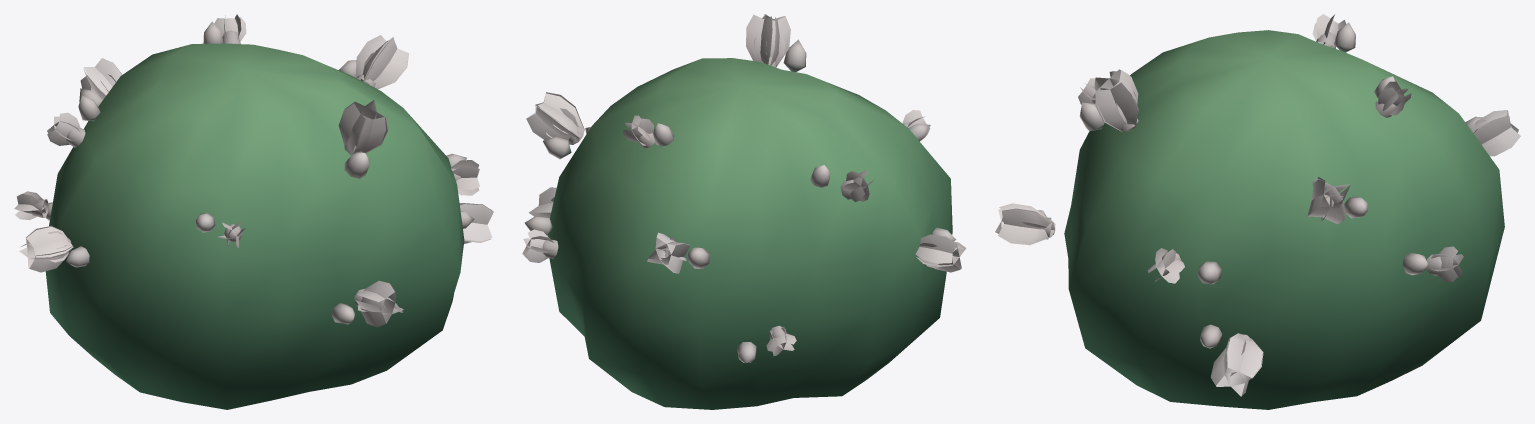
Rendered from rose_white.glb.
3 renders of one model, left to right at view 1: azimuth 30°, elevation 25°; view 2: azimuth 150°, elevation 25°; view 3: azimuth 270°, elevation 25°, orthographic. The views are drawn at different scales.
Parts seen in each view (by area): view 1: rose_white; view 2: rose_white; view 3: rose_white.
Part boxes in pixels (left/top/right/bottom): rose_white: left=14, top=14, right=493, bottom=409; rose_white: left=522, top=14, right=966, bottom=409; rose_white: left=995, top=14, right=1520, bottom=409.
Size of what is drawn, in the model's own units: 2 by 1.2 by 1.94.
